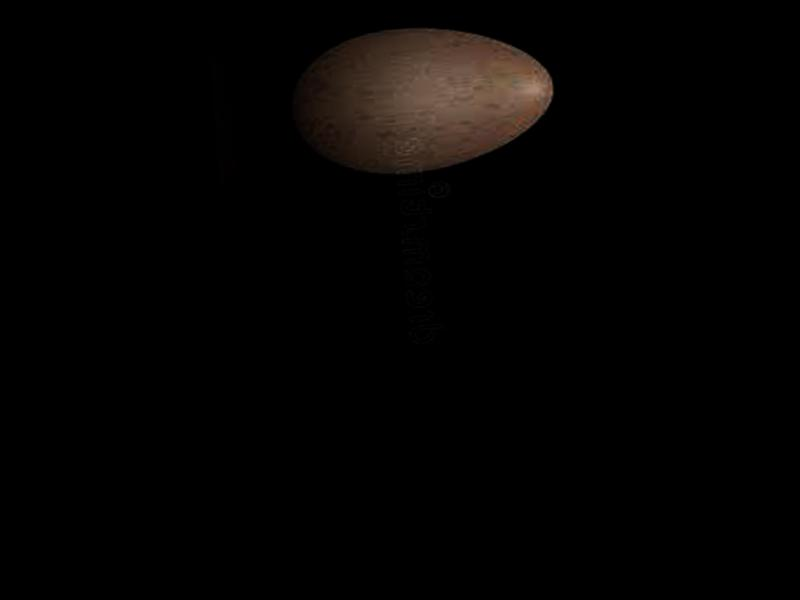Eggs: (285, 16, 561, 180)
